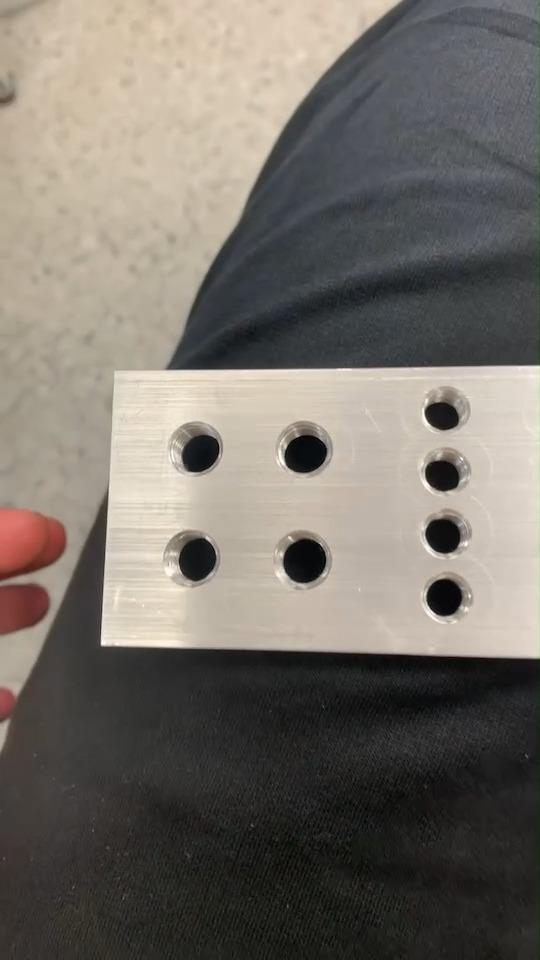hole: (270, 525, 336, 595), (270, 414, 336, 480), (417, 569, 482, 632), (162, 530, 220, 589), (167, 419, 222, 476), (417, 508, 472, 561), (416, 384, 471, 436), (416, 448, 473, 497)
